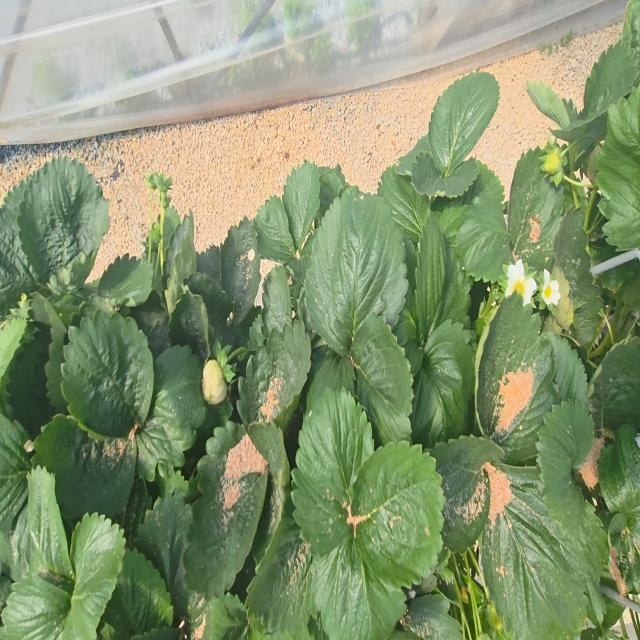Flowers: (505, 259, 537, 306), (542, 271, 561, 305)
Leaves: (480, 465, 597, 639), (304, 190, 407, 355), (184, 424, 268, 599), (291, 388, 374, 555), (351, 441, 444, 588), (476, 294, 554, 463), (10, 156, 109, 282), (536, 401, 606, 576), (61, 309, 154, 437), (138, 492, 213, 631), (34, 424, 137, 520), (312, 533, 405, 639), (245, 495, 313, 633), (137, 346, 207, 480), (431, 435, 502, 552), (61, 513, 125, 639), (411, 320, 473, 447), (237, 320, 311, 423), (428, 73, 499, 177), (595, 89, 640, 250), (508, 148, 563, 269), (554, 211, 603, 345), (406, 211, 453, 346), (249, 421, 290, 560), (111, 548, 173, 636), (455, 185, 511, 281), (26, 466, 72, 579), (0, 189, 40, 316), (583, 36, 640, 119), (0, 572, 70, 639), (590, 338, 640, 431), (221, 217, 261, 325), (0, 414, 31, 537), (379, 166, 429, 242), (282, 162, 320, 253), (407, 150, 479, 197), (165, 213, 195, 316), (97, 255, 152, 307), (253, 196, 295, 263), (170, 290, 209, 360), (405, 594, 462, 639), (527, 81, 570, 129), (263, 265, 292, 331), (320, 165, 348, 210)
Strawberries: (202, 360, 227, 405), (541, 148, 561, 174)
